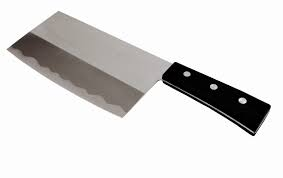knife: (5, 9, 272, 137)
